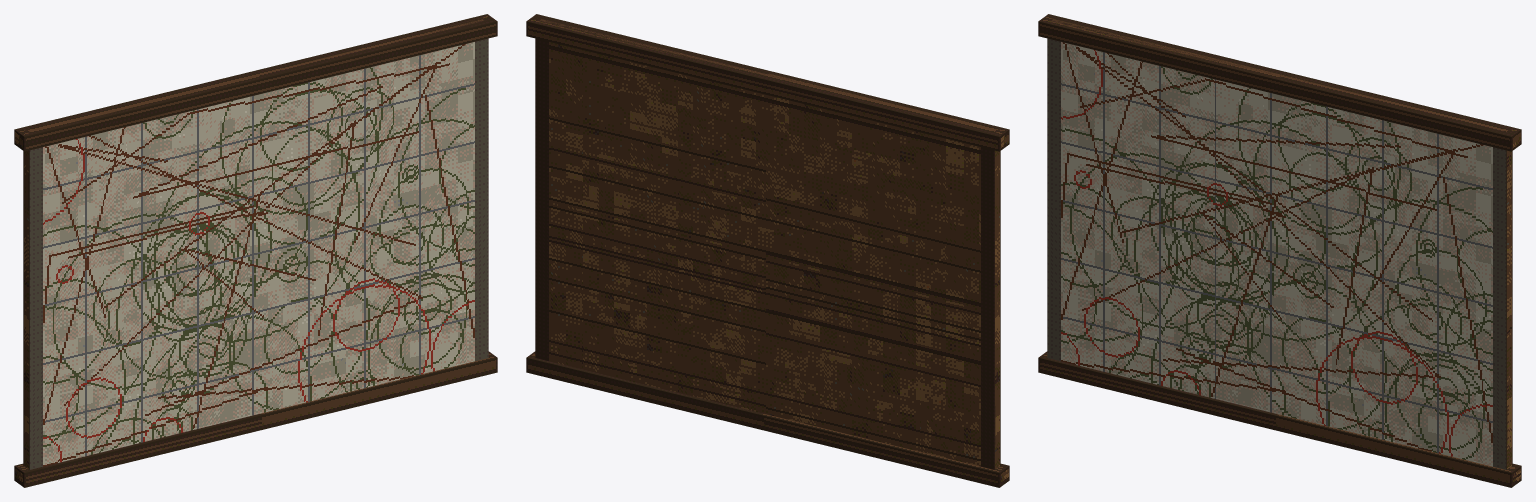
The model's file is SM_Map_Wall_01.glb.
The picture shows the model from 3 angles, left to right: view 1: azimuth 30°, elevation 25°; view 2: azimuth 150°, elevation 25°; view 3: azimuth 330°, elevation 25°; orthographic projection.
Visible parts, largest first — view 1: SM_Map_Wall_01; view 2: SM_Map_Wall_01; view 3: SM_Map_Wall_01.
Boxes of the visible parts, box(x1,y1,x2,y2) form: SM_Map_Wall_01: box(14, 14, 497, 487); SM_Map_Wall_01: box(526, 14, 1009, 487); SM_Map_Wall_01: box(1038, 14, 1521, 487).
Bounding box in the file's own units: 1.34 × 0.95 × 0.05.
Materials: 1 (1 with a texture image).
